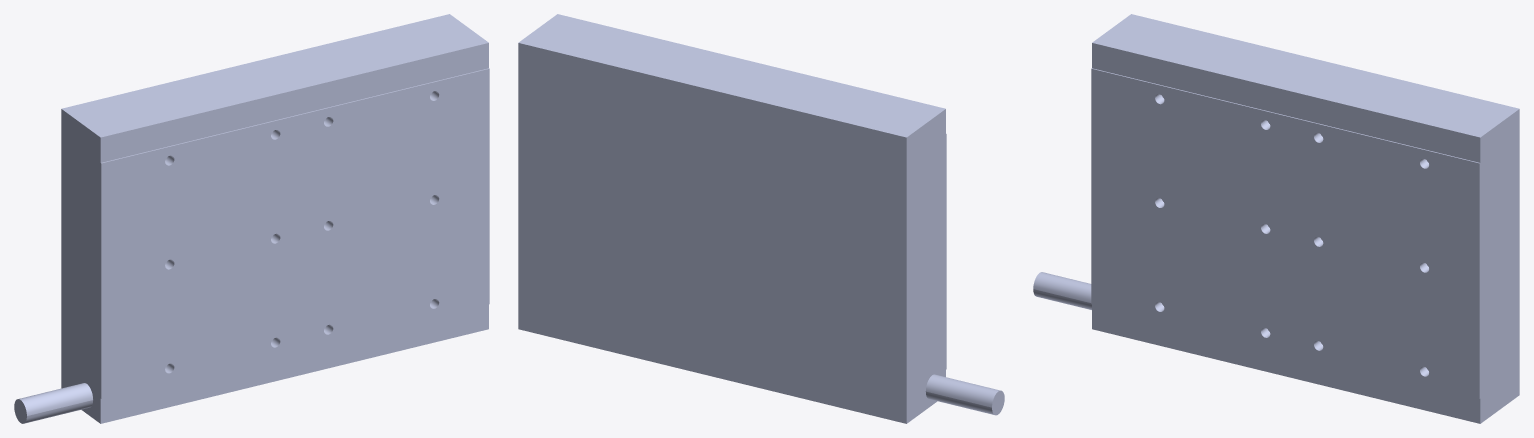
File: MTC-9.glb
3 views of the same model, side by side, from view 1: azimuth 30°, elevation 25°; view 2: azimuth 150°, elevation 25°; view 3: azimuth 330°, elevation 25° (orthographic).
Parts seen in each view (by area): view 1: MTC-9_node_1; view 2: MTC-9_node_1; view 3: MTC-9_node_1.
Boxes of the visible parts, box(x1,y1,x2,y2) form: MTC-9_node_1: box(14, 14, 489, 423); MTC-9_node_1: box(518, 14, 1004, 423); MTC-9_node_1: box(1033, 14, 1519, 423).
Size of the model in its own units: 206 by 124 by 31.4.
